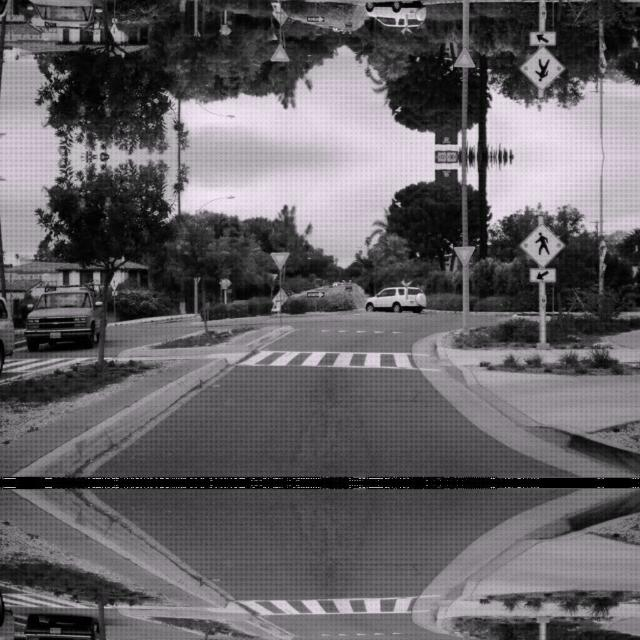pedestrianCrossing: (519, 221, 565, 267), (519, 45, 565, 91)
yield: (454, 244, 474, 264), (454, 48, 474, 68), (270, 250, 288, 268), (270, 44, 288, 62)
